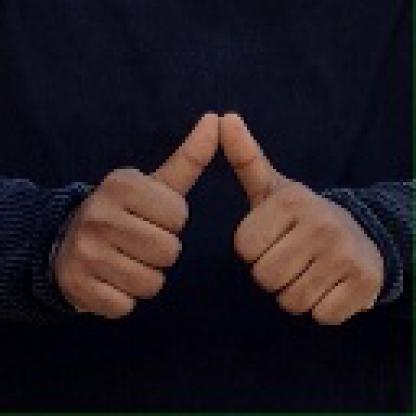A: (58, 113, 372, 324)
